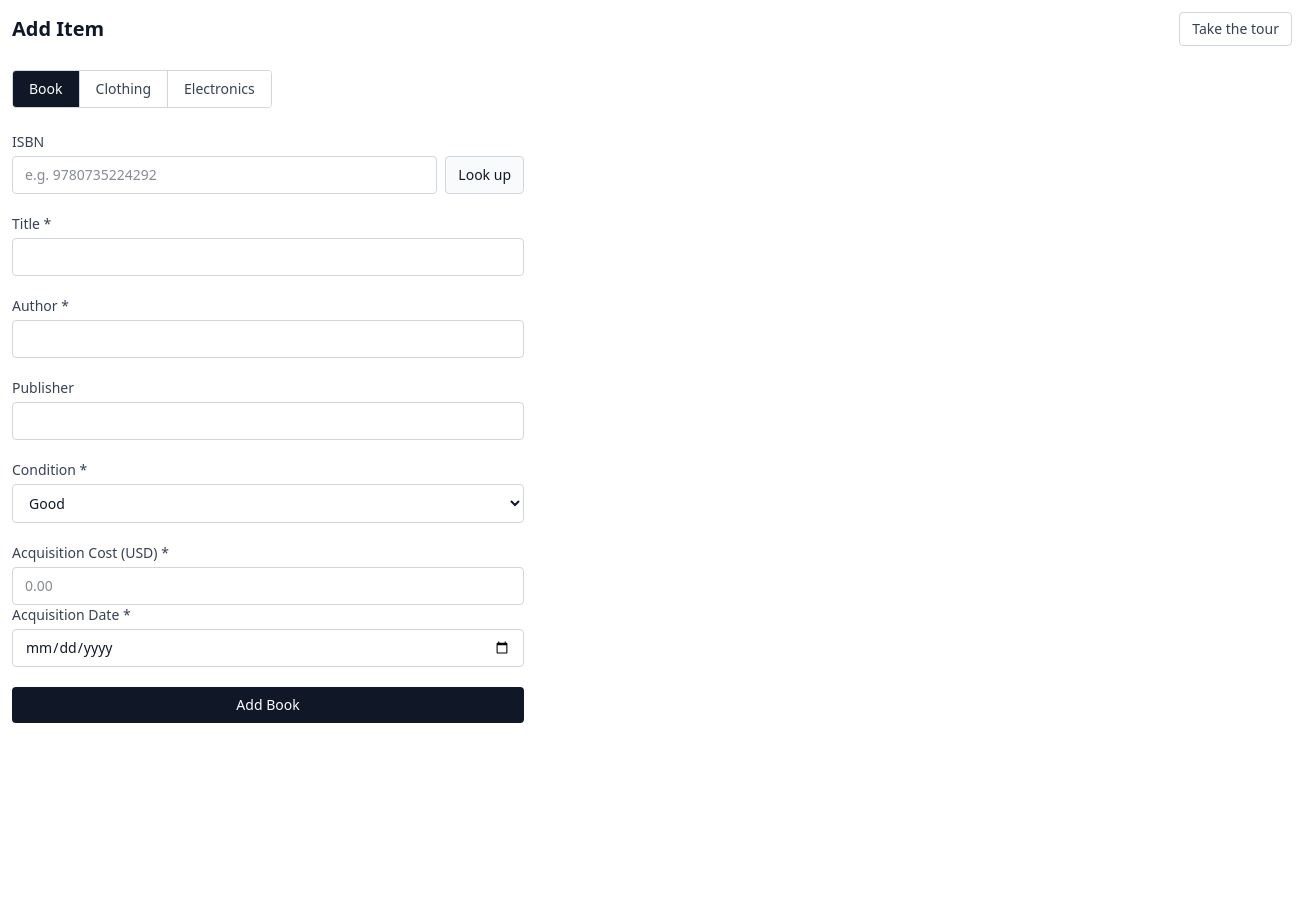
AddItemPage › switches to the Clothing form when the Clothing tab is clicked
Click the button "Clothing": (123, 89) [78,71,167,107]
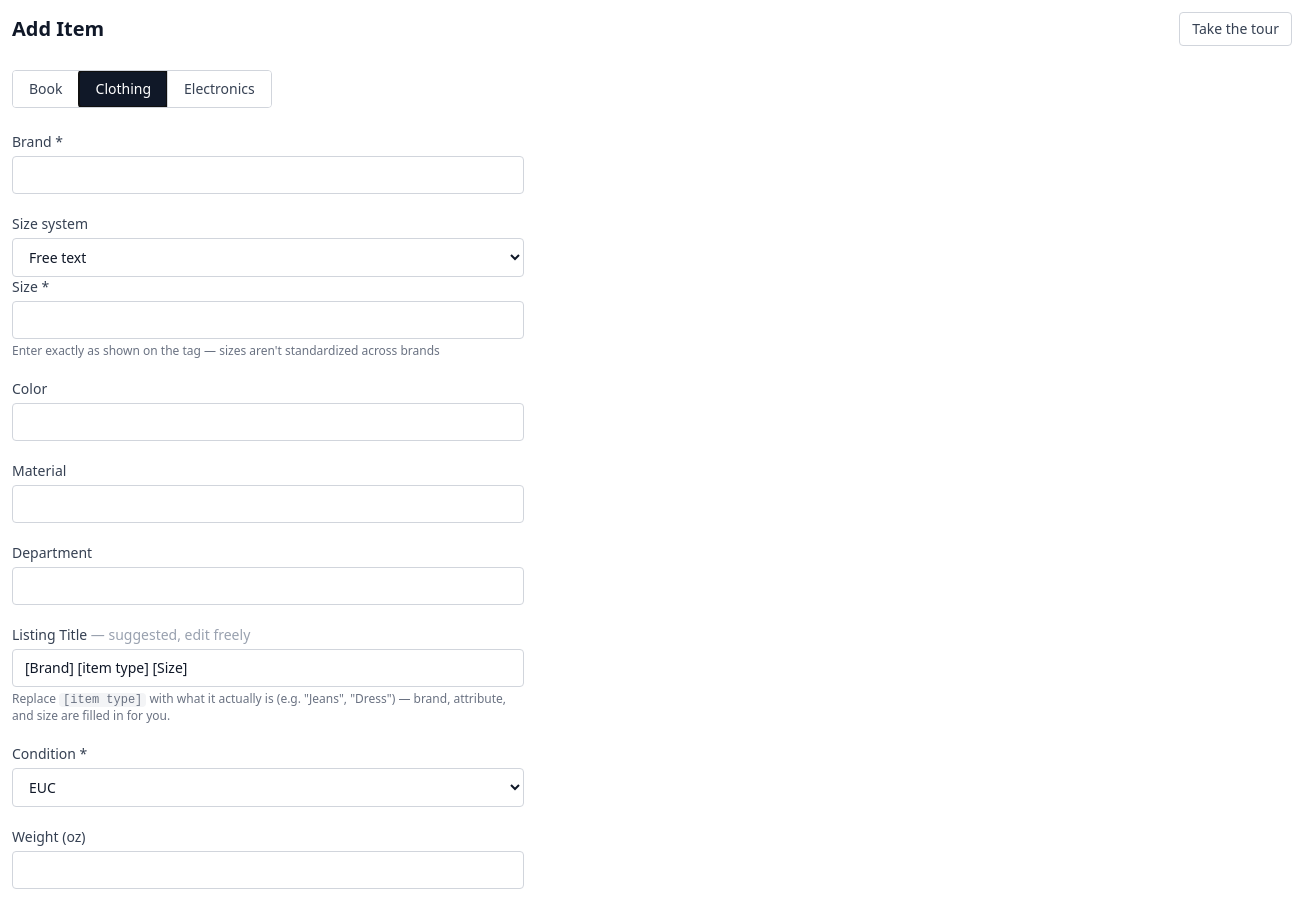
Expected: the text "Brand *" is shown, [12,132,63,151]
Expected: the text "Author *" is gone
